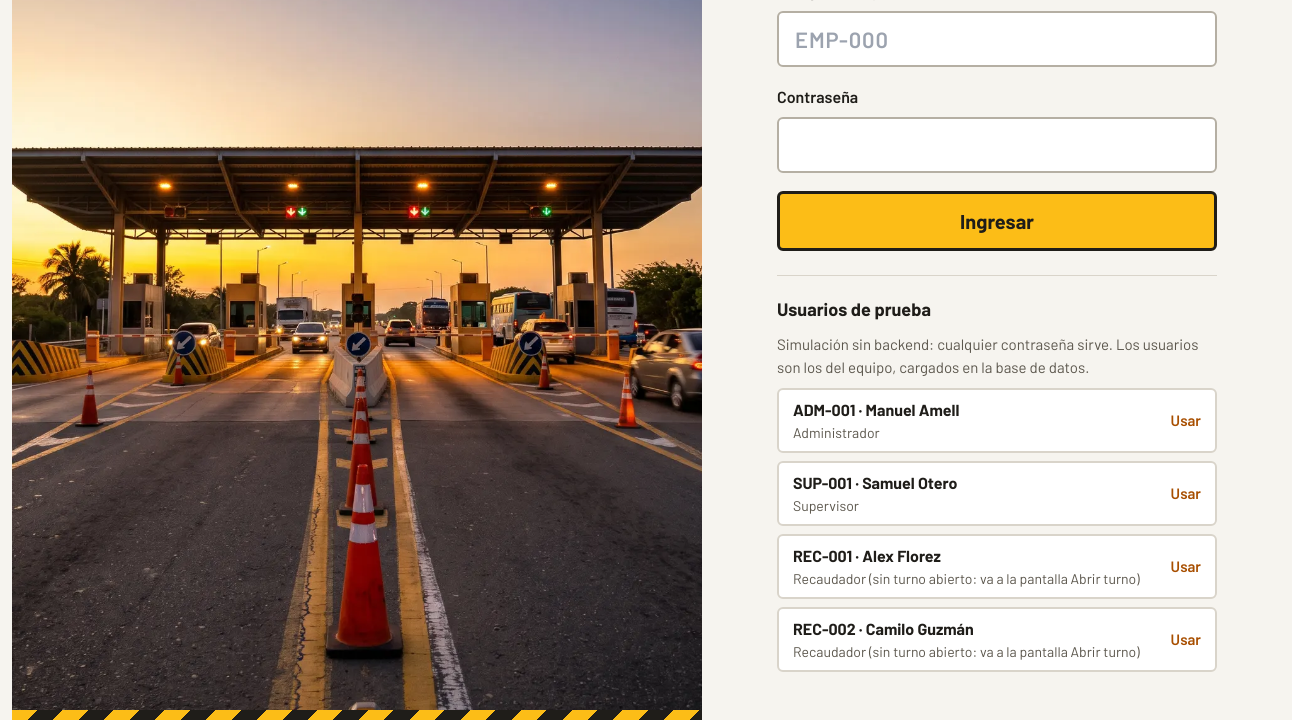
Página de inicio de sesión (routes.tsx) › con VITE_USAR_MOCKS=true muestra la lista demo y con Usar rellena el formulario
(page scrolled)
Expected: the heading "Usuarios de prueba" is shown, [777,298,931,320]
Expected: the text "Simulación sin backend: cualquier contraseña sirve. Los usuarios son los del equipo, cargados en la base de datos." is shown, [777,335,1198,376]
Click the button "SUP-001 · Samuel Otero Supervisor Usar": (822, 482) [777,461,1217,526]
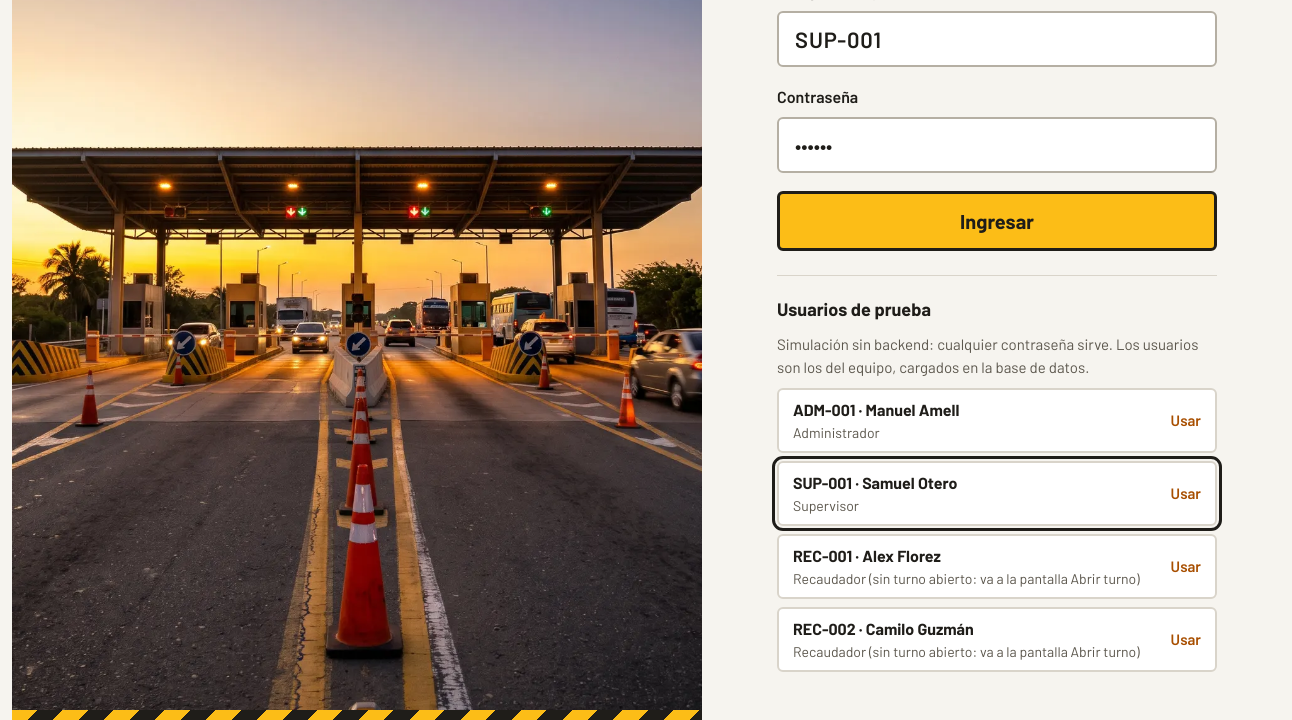
Result: the field labelled "Código de empleado" holds "SUP-001" at [777,11,1217,67]
Result: the password field labelled "Contraseña" holds "prueba" at [777,117,1217,173]
